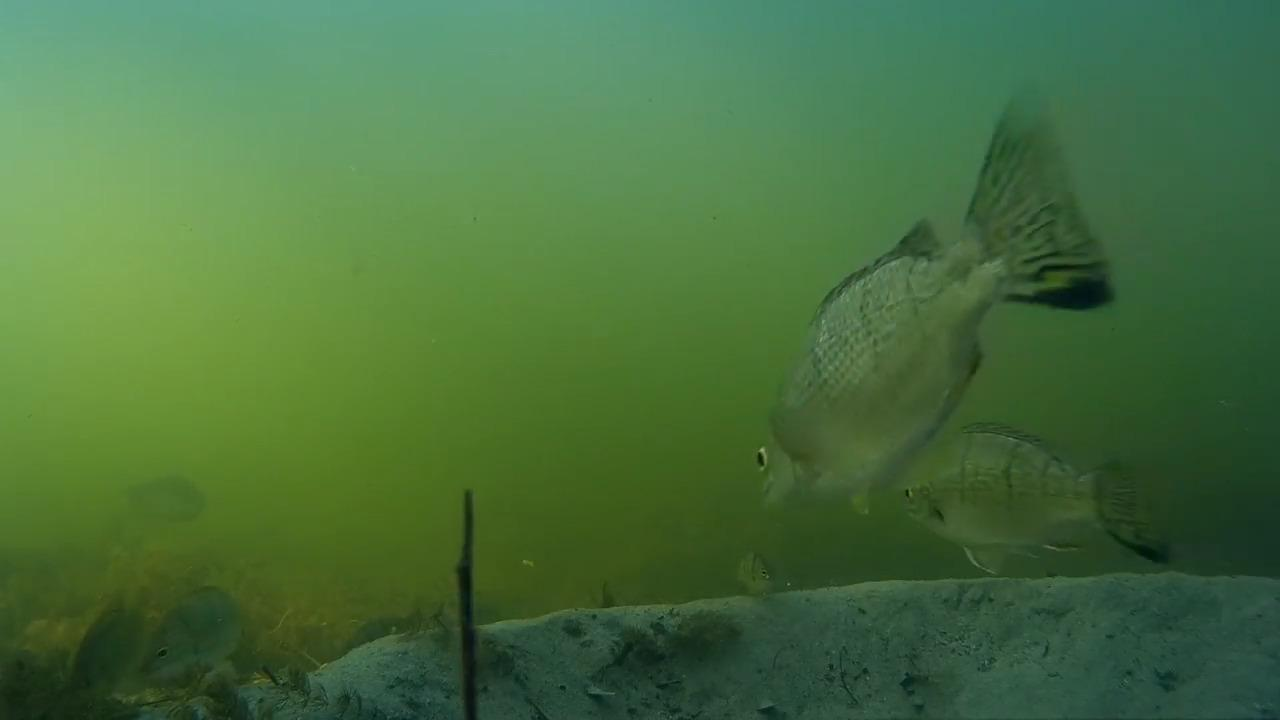Tilapia: (727, 85, 1121, 521), (866, 414, 1159, 571), (139, 558, 248, 694), (113, 464, 221, 536), (734, 544, 785, 612)
